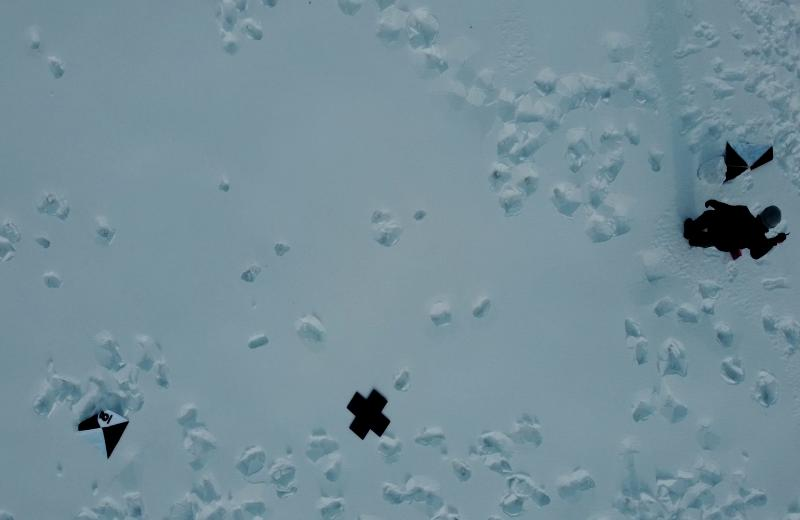Cross: (347, 387, 391, 441)
